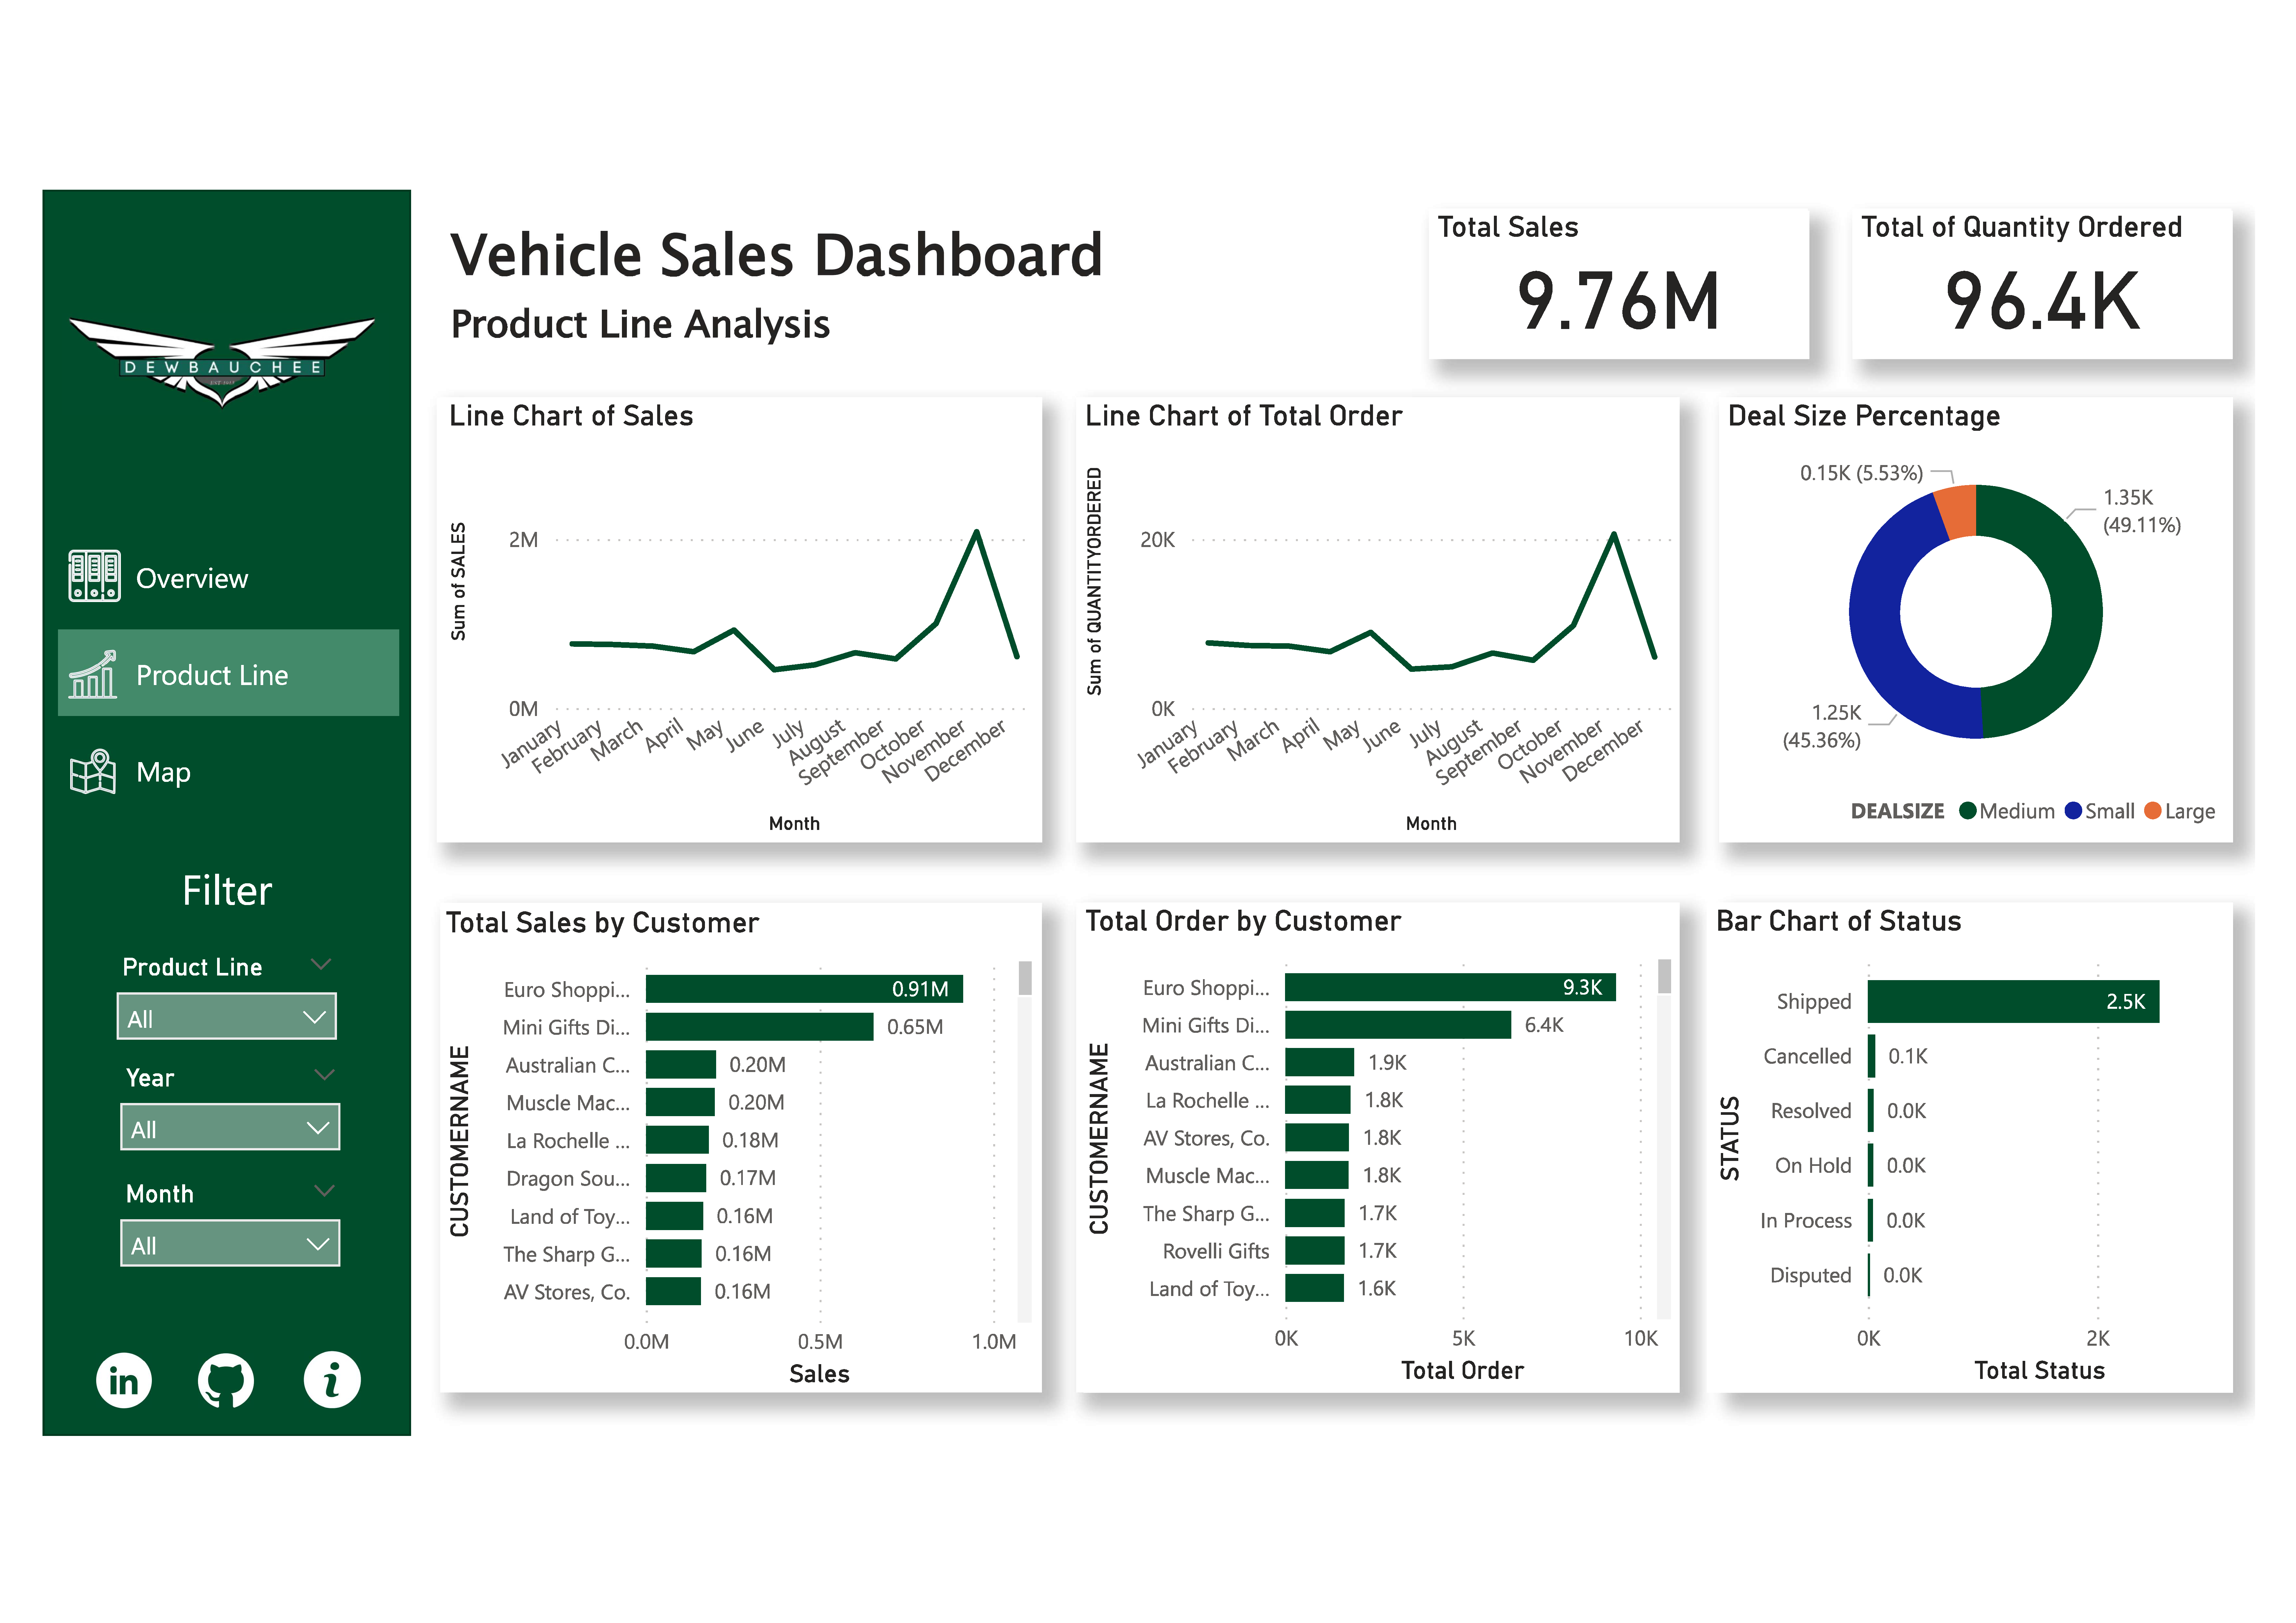

Layout of this report page (visuals, bound fields, positions):
{"tool":"powerbi","page":{"name":"Product Line","canvas":[1280,720],"ordinal":1},"visuals":[{"type":"shape","box":[598.3,411.7,348.3,283.3],"z":0},{"type":"shape","box":[970,411.7,296.7,283.3],"z":1000},{"type":"shape","box":[598.3,120,348,256.7],"z":2000},{"type":"shape","box":[970,120,296.7,256.7],"z":3000},{"type":"shape","box":[228.3,120,348,256.7],"z":4000},{"type":"shape","box":[1046.7,11.7,220,86.7],"z":5000},{"type":"shape","box":[801.7,11.7,220,86.7],"z":6000},{"type":"shape","box":[0,0,213.3,720],"z":7000},{"type":"card","title":"Total Sales","fields":{"Values":["Auto Sales data.SALES"]},"box":[801.9,11.3,218.9,75.5],"z":8000},{"type":"barChart","title":"Bar Chart of Status","fields":{"Category":["Auto Sales data.STATUS"],"Y":["Auto Sales data.STATUS"]},"box":[963.3,411.7,303.3,283.3],"z":9000},{"type":"card","title":"Total of Quantity Ordered","fields":{"Values":["Auto Sales data.QUANTITYORDERED"]},"box":[1047.2,11.3,218.9,75.5],"z":10000},{"type":"donutChart","title":"Deal Size Percentage","fields":{"Category":["Auto Sales data.DEALSIZE"],"Y":["Auto Sales data.DEALSIZE"]},"box":[970,120,296.7,256.7],"z":11000},{"type":"lineChart","title":"Line Chart of Sales","fields":{"Y":["Auto Sales data.SALES"],"Category":["Auto Sales data.ORDERDATE.Variation.Date Hierarchy.Month"]},"box":[230,120,348.3,256.7],"z":12000},{"type":"slicer","fields":{"Values":["Auto Sales data.ORDERDATE.Variation.Date Hierarchy.Year"]},"box":[35,500.3,146.7,63.3],"z":13000},{"type":"slicer","fields":{"Values":["Auto Sales data.ORDERDATE.Variation.Date Hierarchy.Month"]},"box":[35,567,147,65],"z":14000},{"type":"barChart","title":"Total Sales by Customer","fields":{"Category":["Auto Sales data.CUSTOMERNAME"],"Y":["Auto Sales data.SALES"]},"box":[228.3,413.3,348.3,283.3],"z":15000},{"type":"slicer","fields":{"Values":["Auto Sales data.PRODUCTLINE"]},"box":[33.3,435.7,146.7,65],"z":16000},{"type":"lineChart","title":"Line Chart of Total Order","fields":{"Y":["Auto Sales data.QUANTITYORDERED"],"Category":["Auto Sales data.ORDERDATE.Variation.Date Hierarchy.Month"]},"box":[598.3,120,348.3,256.7],"z":17000},{"type":"barChart","title":"Total Order by Customer","fields":{"Category":["Auto Sales data.CUSTOMERNAME"],"Y":["Auto Sales data.QUANTITYORDERED"]},"box":[598.3,411.7,348.3,283.3],"z":18000},{"type":"shape","box":[230,411.7,348.3,283.3],"z":19000},{"type":"pageNavigator","box":[9.4,197.9,196.9,162.5],"z":20000},{"type":"image","box":[10,203.3,40,40],"z":21000},{"type":"image","box":[10,260,38.3,40],"z":22000},{"type":"image","box":[11.5,316.7,35.4,37.5],"z":23000},{"type":"textbox","box":[0,381.7,213.3,43.3],"z":24000},{"type":"textbox","box":[230.8,9.2,687.7,76.9],"z":25000},{"type":"textbox","box":[230.8,56.9,455.4,50.8],"z":26000},{"type":"image","box":[6.4,0,198.7,200.3],"z":27000},{"type":"image","box":[25.6,665.6,42.2,44.4],"z":28000},{"type":"image","box":[85,665.6,42.2,44.4],"z":29000},{"type":"image","box":[145,665.6,44.4,43.3],"z":30000}]}

Visuals, with their boxes on the page's 1280x720 design canvas (x1, y1, x2, y2). These are canvas units, not pixel positions in the 2296x1623 screenshot, which may show the page scaled, cropped or inside an application window:
shape: crop(598, 412, 947, 695)
shape: crop(970, 412, 1267, 695)
shape: crop(598, 120, 946, 377)
shape: crop(970, 120, 1267, 377)
shape: crop(228, 120, 576, 377)
shape: crop(1047, 12, 1267, 98)
shape: crop(802, 12, 1022, 98)
shape: crop(0, 0, 213, 720)
"Total Sales" card: crop(802, 11, 1021, 87)
"Bar Chart of Status" barChart: crop(963, 412, 1267, 695)
"Total of Quantity Ordered" card: crop(1047, 11, 1266, 87)
"Deal Size Percentage" donutChart: crop(970, 120, 1267, 377)
"Line Chart of Sales" lineChart: crop(230, 120, 578, 377)
slicer - Auto Sales data.ORDERDATE.Variation.Date Hierarchy.Year: crop(35, 500, 182, 564)
slicer - Auto Sales data.ORDERDATE.Variation.Date Hierarchy.Month: crop(35, 567, 182, 632)
"Total Sales by Customer" barChart: crop(228, 413, 577, 697)
slicer - Auto Sales data.PRODUCTLINE: crop(33, 436, 180, 501)
"Line Chart of Total Order" lineChart: crop(598, 120, 947, 377)
"Total Order by Customer" barChart: crop(598, 412, 947, 695)
shape: crop(230, 412, 578, 695)
pageNavigator: crop(9, 198, 206, 360)
image: crop(10, 203, 50, 243)
image: crop(10, 260, 48, 300)
image: crop(12, 317, 47, 354)
textbox: crop(0, 382, 213, 425)
textbox: crop(231, 9, 918, 86)
textbox: crop(231, 57, 686, 108)
image: crop(6, 0, 205, 200)
image: crop(26, 666, 68, 710)
image: crop(85, 666, 127, 710)
image: crop(145, 666, 189, 709)
